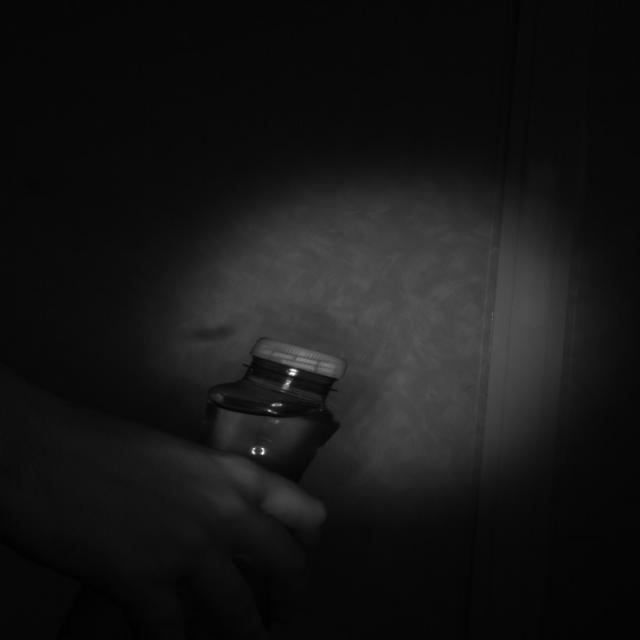Not Good: (242, 336, 347, 389)
